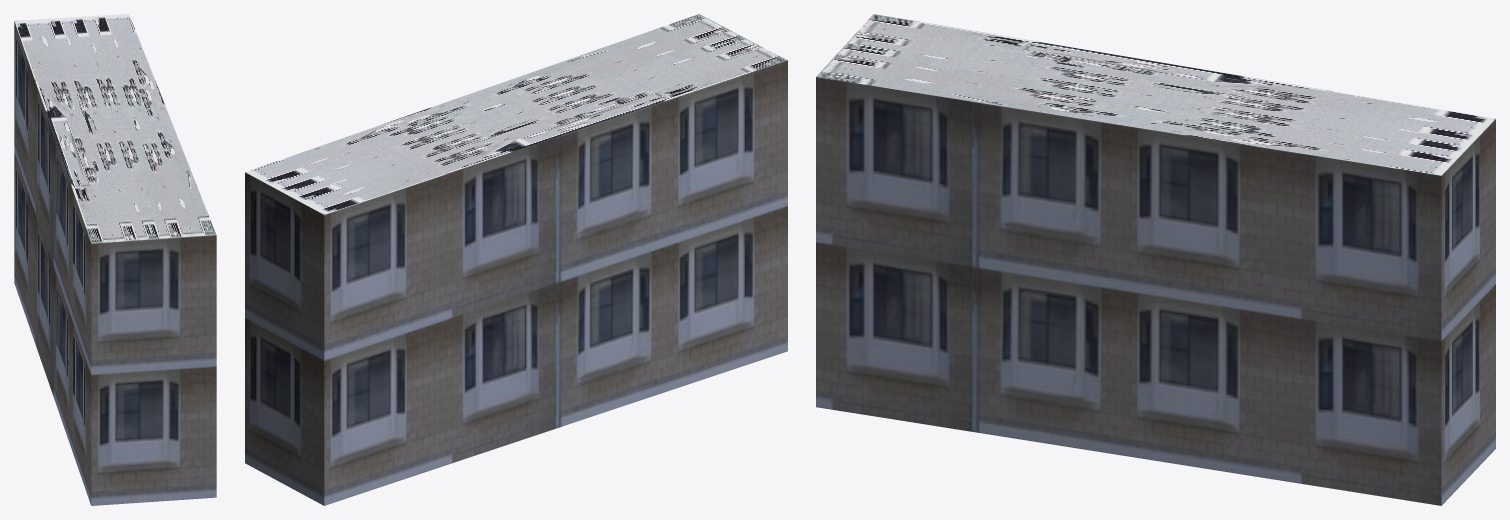
Rendered from ResTex__617.fbx.
3 renders of one model, left to right at view 1: azimuth 30°, elevation 25°; view 2: azimuth 150°, elevation 25°; view 3: azimuth 270°, elevation 25°, orthographic. The views are drawn at different scales.
Visible parts, largest first — view 1: CityEngineMaterial_3_m, CityEngineMaterial_4_m; view 2: CityEngineMaterial_3_m, CityEngineMaterial_4_m; view 3: CityEngineMaterial_3_m, CityEngineMaterial_4_m.
Boxes of the visible parts, x1,y1,x2,y2 form: CityEngineMaterial_3_m: (14, 21, 216, 505); CityEngineMaterial_4_m: (14, 14, 216, 243); CityEngineMaterial_3_m: (245, 60, 787, 505); CityEngineMaterial_4_m: (245, 14, 787, 214); CityEngineMaterial_3_m: (816, 77, 1495, 505); CityEngineMaterial_4_m: (816, 14, 1495, 175).
Bounding box in the file's own units: 6.31 × 6 × 11.2.
2 materials, 2 textured.
